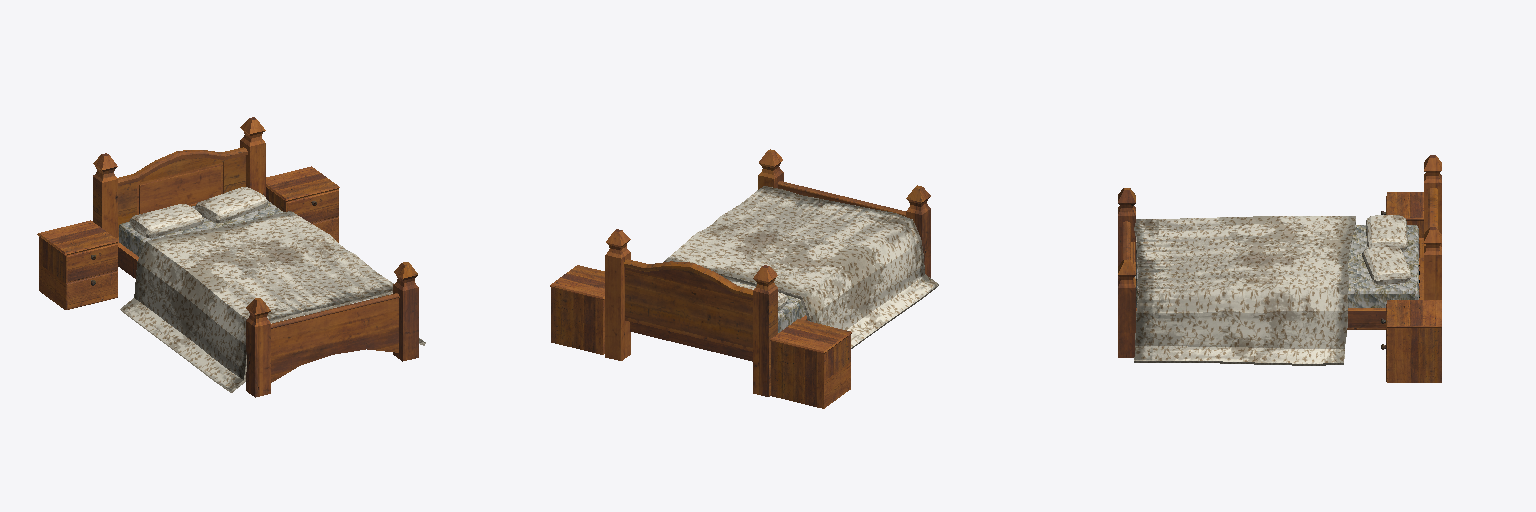
3 renders of one model, left to right at view 1: azimuth 30°, elevation 25°; view 2: azimuth 150°, elevation 25°; view 3: azimuth 270°, elevation 25°, orthographic.
Visible parts, largest first — view 1: Mesh; view 2: Mesh; view 3: Mesh.
Part boxes in pixels (left/top/right/bottom): Mesh: left=37, top=117, right=425, bottom=397; Mesh: left=550, top=149, right=938, bottom=408; Mesh: left=1118, top=155, right=1441, bottom=382.
Size of the model in its own units: 2.8 by 1.23 by 2.86.
1 materials, 1 textured.